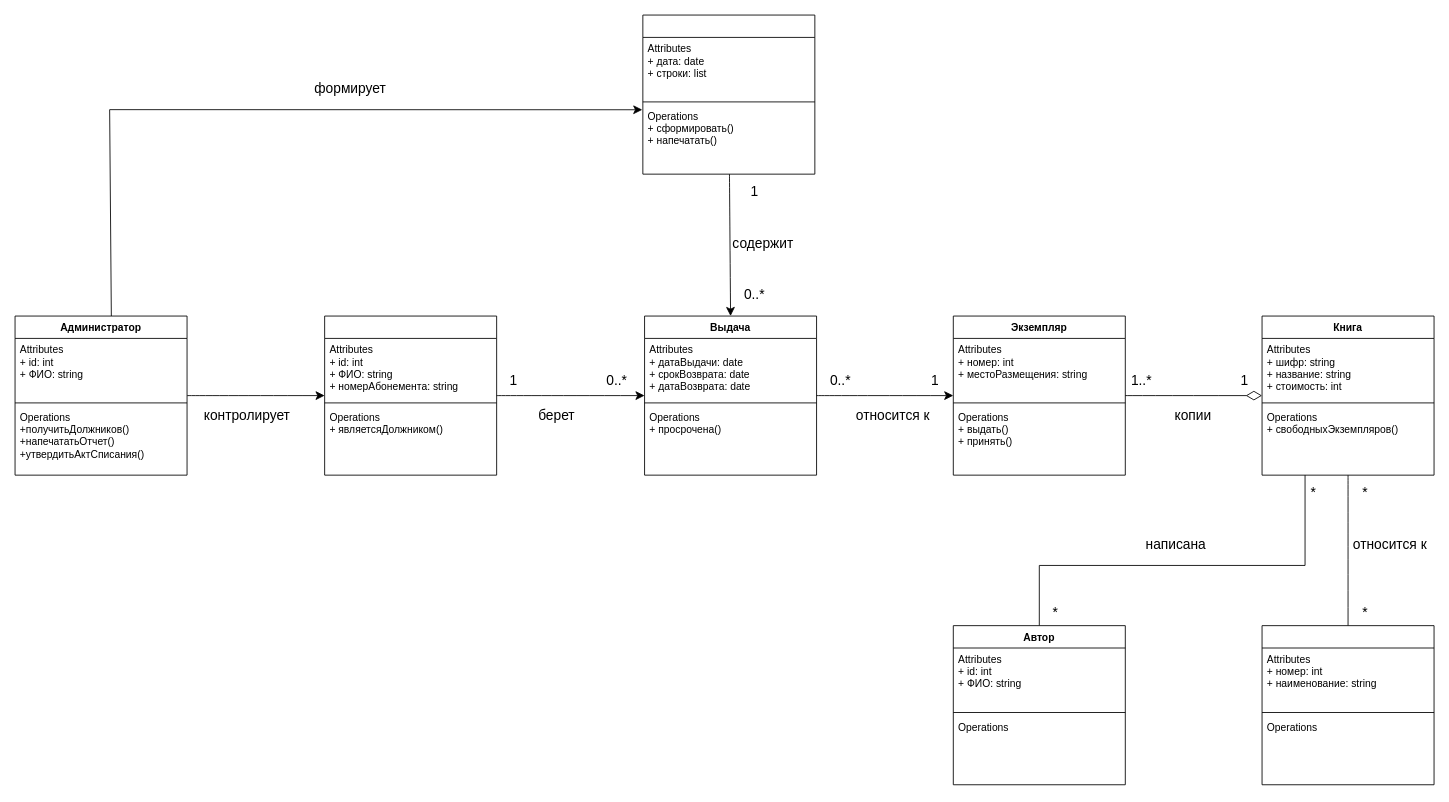
Image size: 1449x802. Some labels were removed from this diagram. The shapes that lost their labels are listed below. From the top down, each one's box as (x1, y1, x2, y2) in pixels, then its label:
(642, 14, 815, 174): ОтчетОДолжниках
(324, 315, 497, 475): Читатель
(1261, 625, 1434, 785): Область знаний
